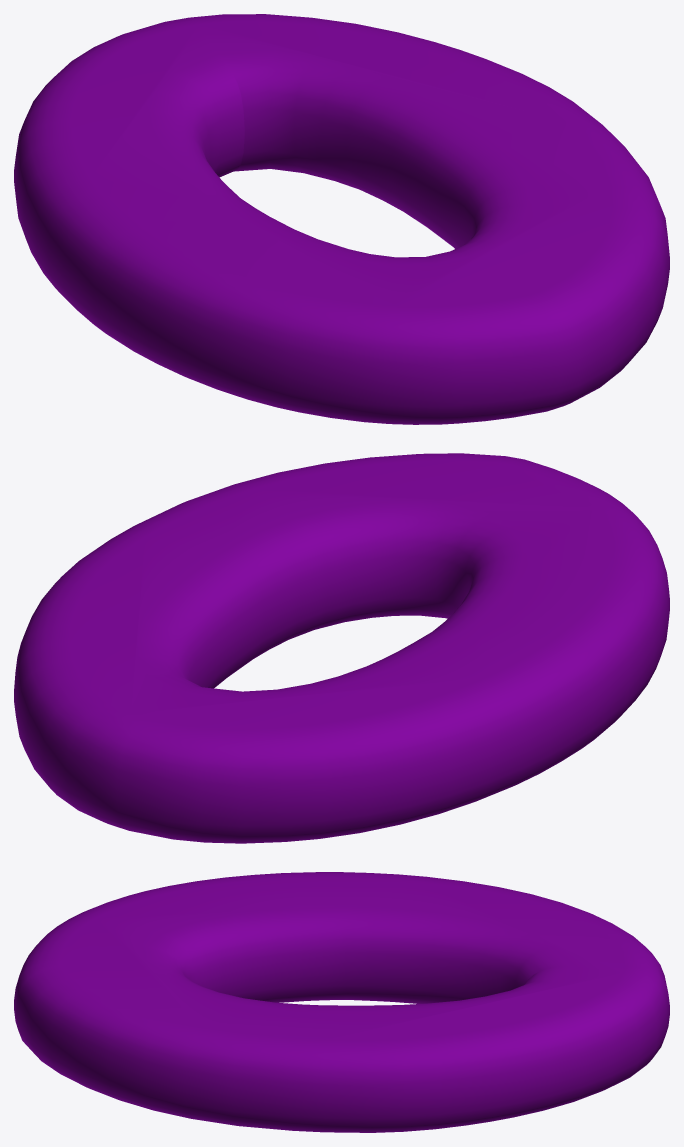
3 renders of one model, top to bottom at view 1: azimuth 30°, elevation 25°; view 2: azimuth 150°, elevation 25°; view 3: azimuth 270°, elevation 25°, orthographic. The views are drawn at different scales.
Parts seen in each view (by area): view 1: Curve.016; view 2: Curve.016; view 3: Curve.016.
Boxes of the visible parts, x1,y1,x2,y2 form: Curve.016: (14, 14, 669, 424); Curve.016: (14, 453, 669, 843); Curve.016: (14, 872, 669, 1132).
Bounding box in the file's own units: 246 × 49.54 × 340.
1 material, 1 textured.
